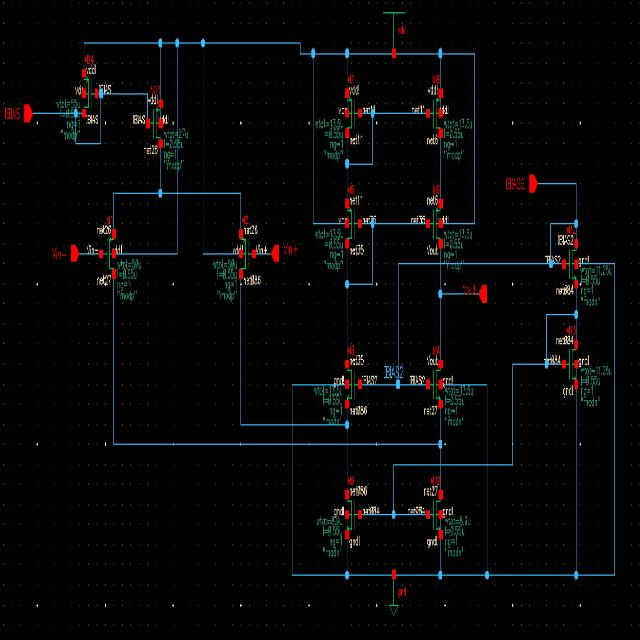nmos: (425, 357, 444, 411), (562, 238, 580, 294), (425, 490, 444, 542), (344, 489, 361, 542), (344, 358, 362, 406), (562, 340, 578, 390)
pmos: (98, 227, 118, 281), (82, 67, 100, 126), (344, 197, 362, 255), (238, 228, 256, 284), (426, 198, 444, 253), (427, 90, 445, 140), (345, 86, 361, 140), (148, 100, 163, 152)
